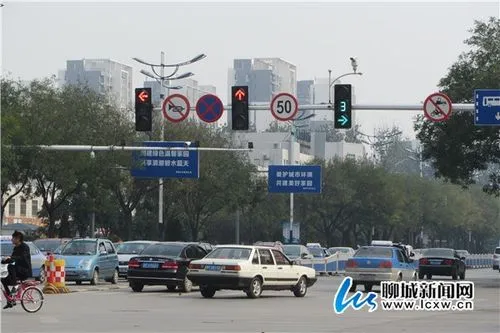bicycle: (1, 271, 46, 313)
camera: (348, 54, 360, 73), (247, 141, 254, 153), (90, 151, 96, 159), (185, 142, 190, 147)
car: (187, 244, 316, 299), (125, 241, 208, 291), (53, 238, 120, 285), (344, 243, 417, 285), (279, 244, 345, 272), (414, 248, 466, 280), (0, 222, 44, 256), (115, 240, 156, 273), (28, 238, 67, 267), (315, 246, 355, 274)
person: (3, 233, 36, 295)
sign: (128, 142, 198, 181), (263, 162, 326, 194), (473, 88, 500, 126), (161, 91, 189, 125), (195, 92, 223, 124), (424, 93, 452, 121), (272, 92, 296, 120)
traffic light: (134, 88, 154, 133), (333, 81, 352, 128), (231, 85, 250, 130)
